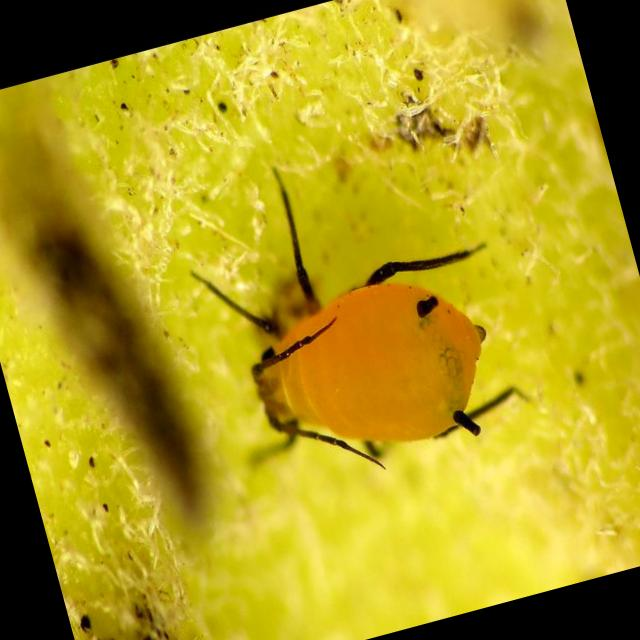Aphids: (165, 139, 535, 501)
